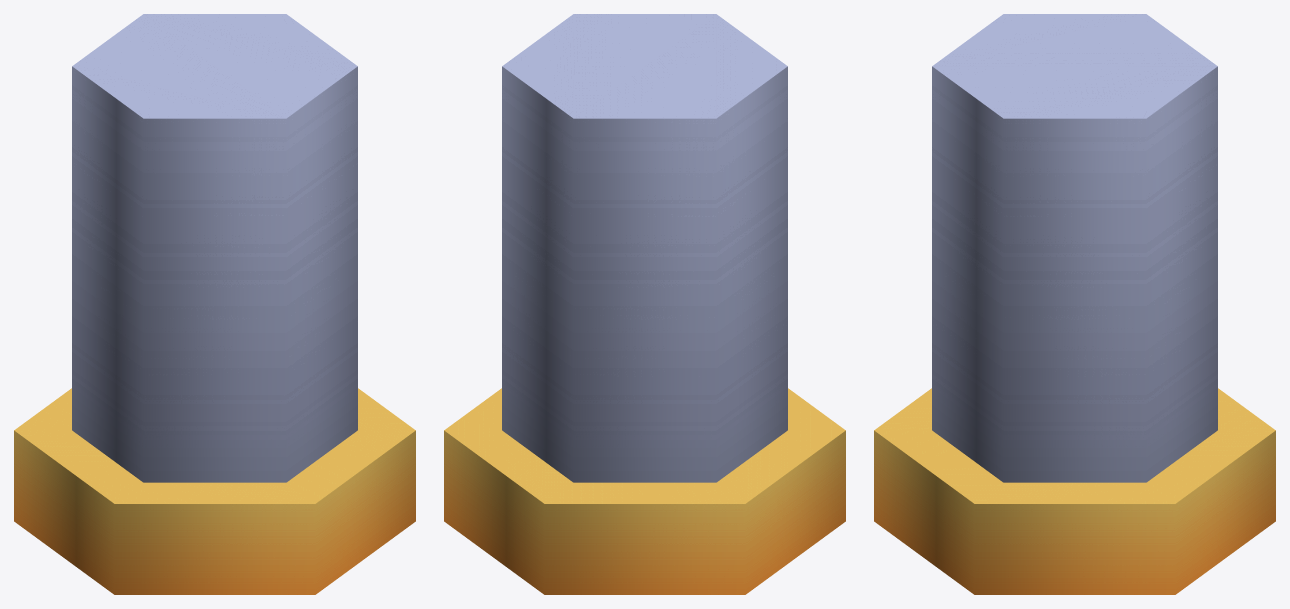
File: pipe-end-colored.glb
The picture shows the model from 3 angles, left to right: view 1: azimuth 30°, elevation 25°; view 2: azimuth 150°, elevation 25°; view 3: azimuth 270°, elevation 25°; orthographic projection.
Visible parts, largest first — view 1: pipe-end-colored; view 2: pipe-end-colored; view 3: pipe-end-colored.
Part boxes in pixels (x1,y1,x2,y2): pipe-end-colored: [14, 14, 415, 594]; pipe-end-colored: [444, 14, 845, 594]; pipe-end-colored: [874, 14, 1275, 594].
Bounding box in the file's own units: 1.04 × 1.5 × 1.2.
1 material, 1 textured.
